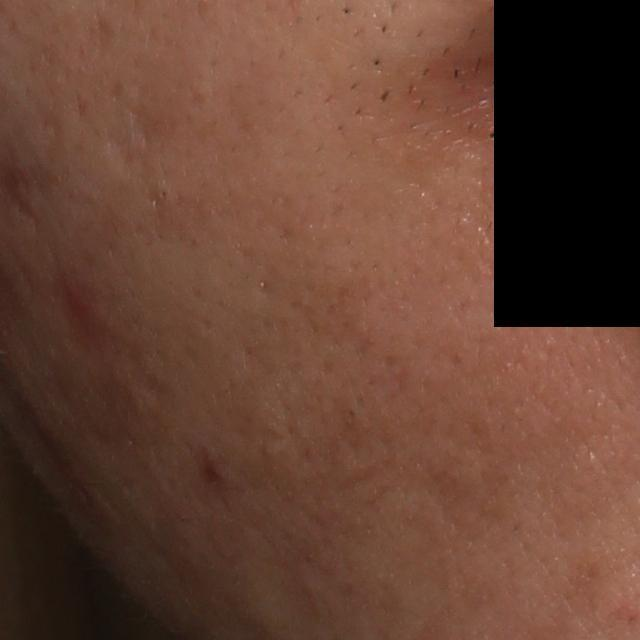papule: (59, 282, 97, 319)
